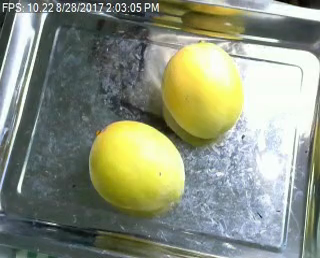Mango: (155, 37, 249, 143), (85, 117, 193, 209)
